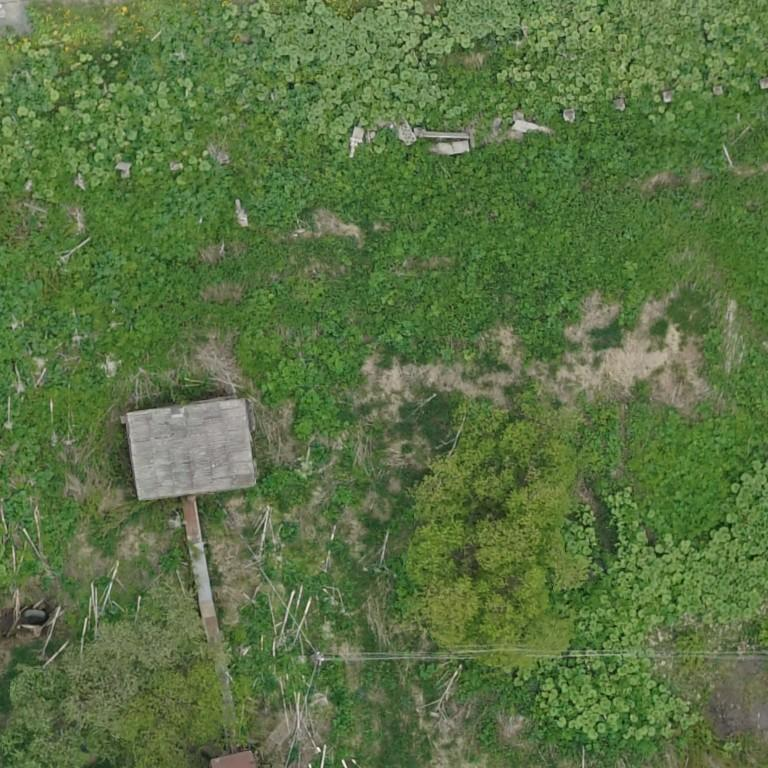hogweed: (0, 176, 340, 576), (252, 119, 767, 357), (269, 278, 363, 379)
